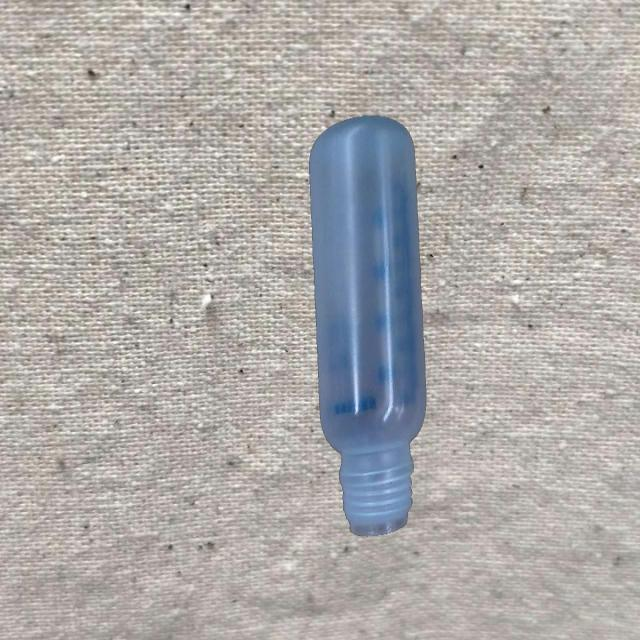bottle: (308, 111, 430, 538)
